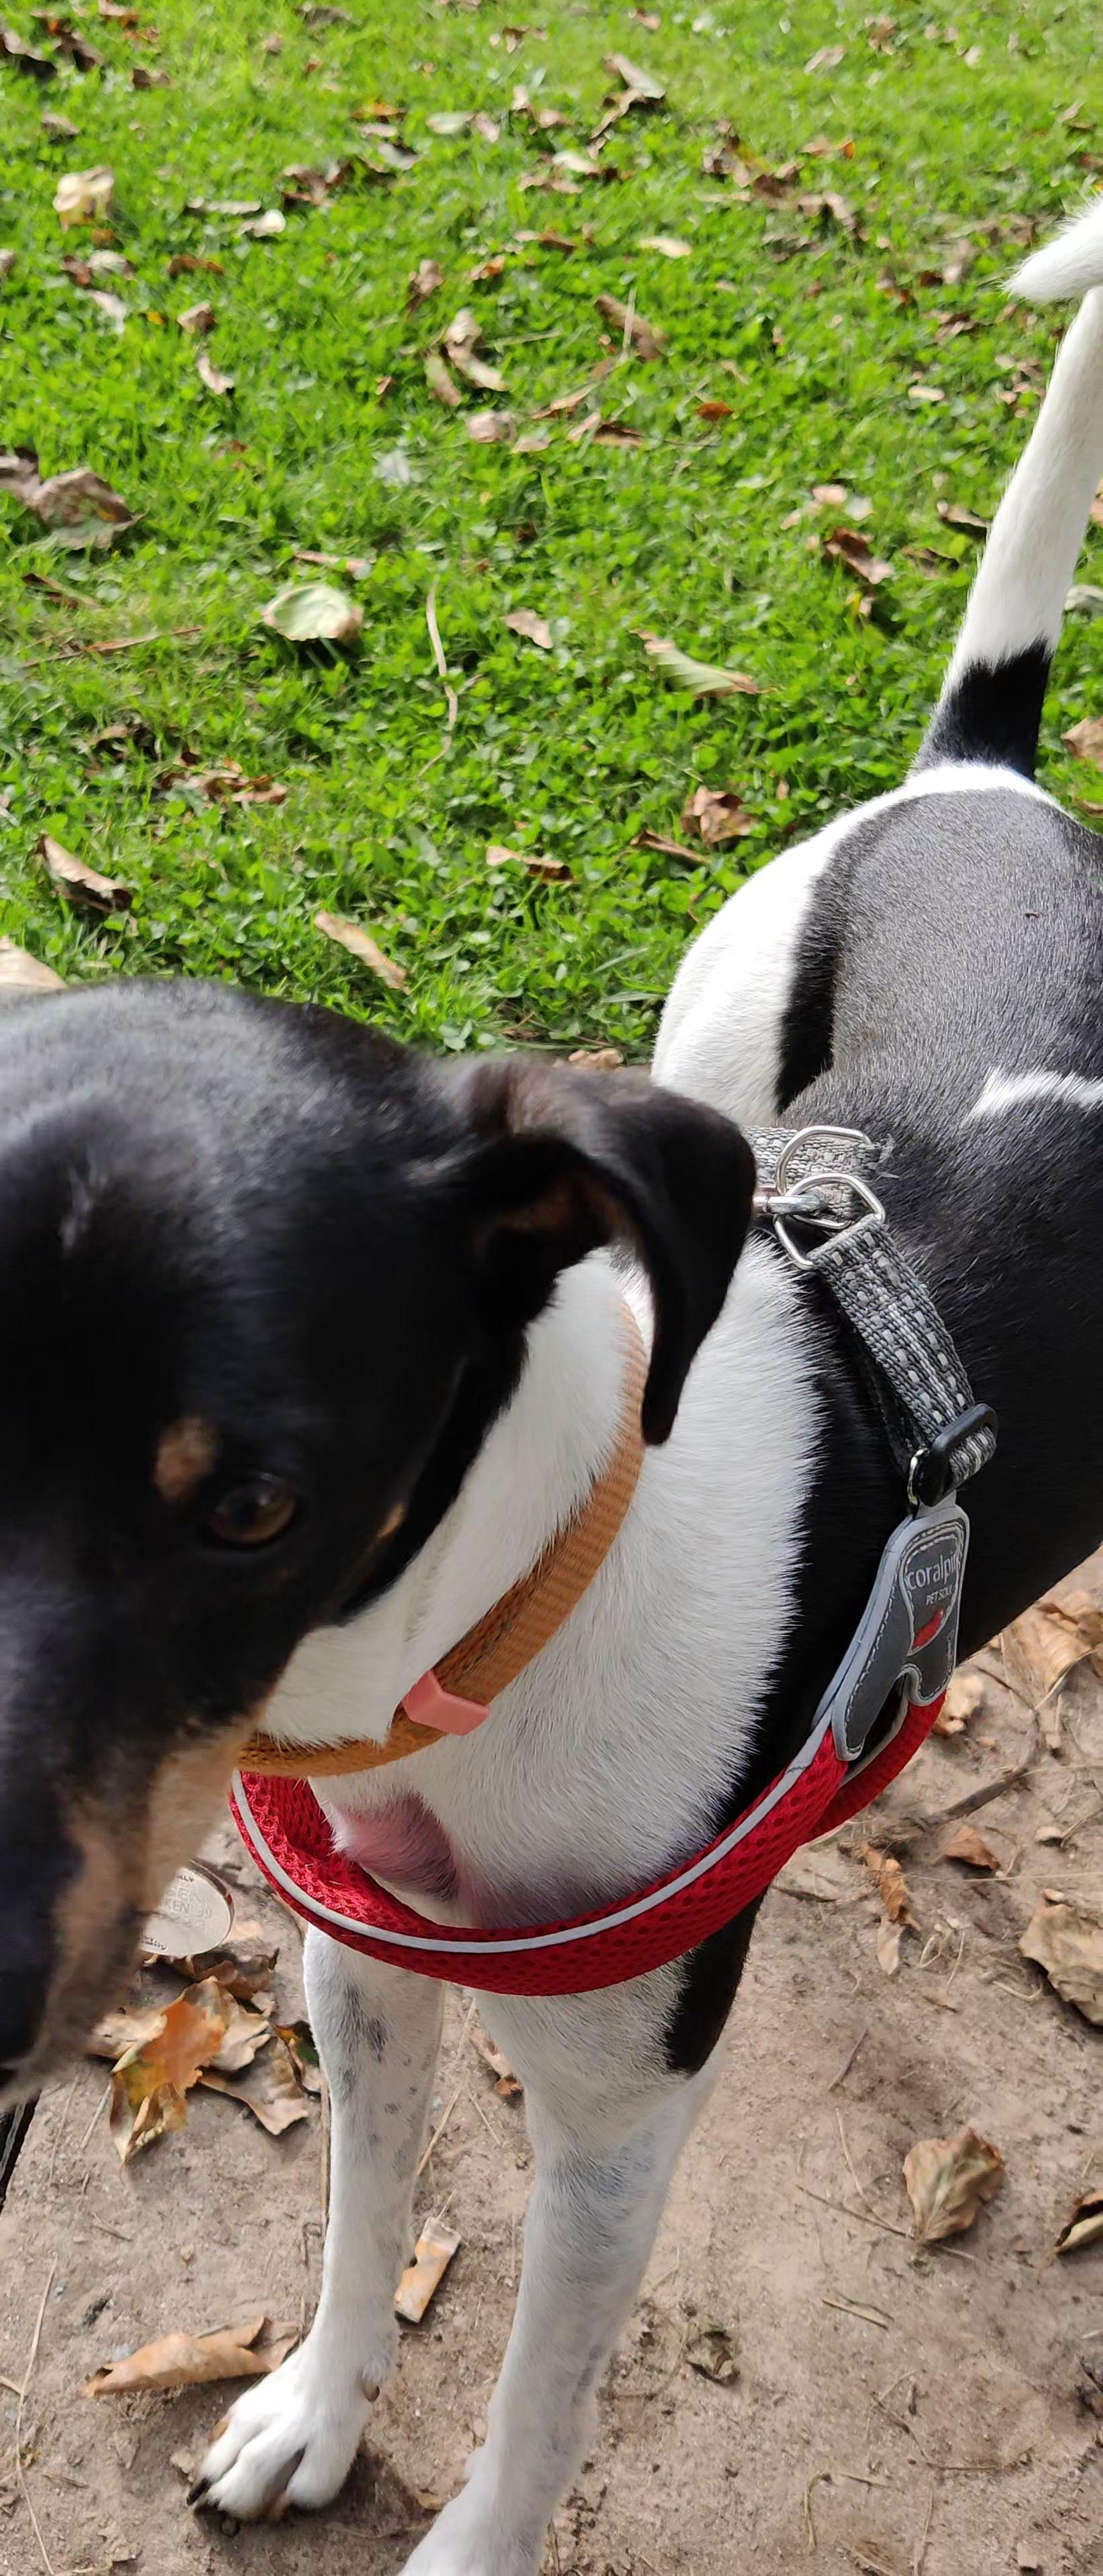Dog: (0, 191, 1103, 2576)
